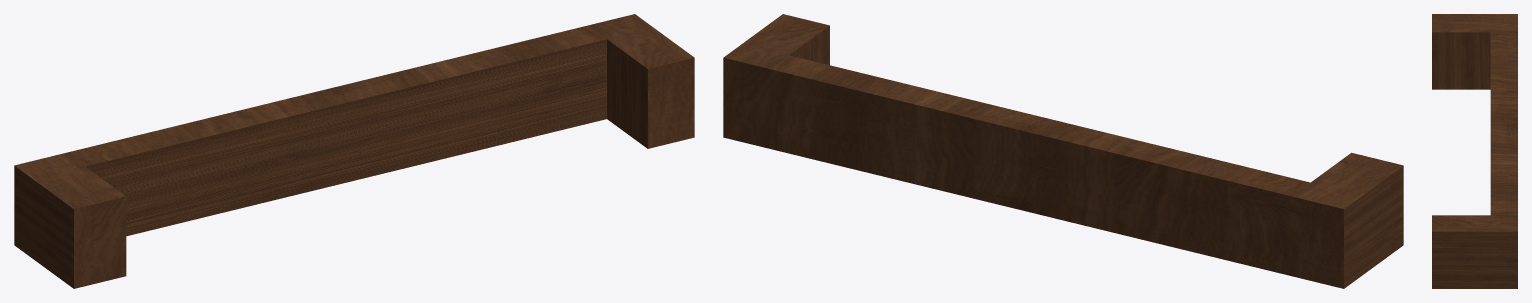
The model's file is modesty-b2d30522ae3c.glb.
3 renders of one model, left to right at view 1: azimuth 30°, elevation 25°; view 2: azimuth 150°, elevation 25°; view 3: azimuth 270°, elevation 25°, orthographic. The views are drawn at different scales.
Parts seen in each view (by area): view 1: Box1766; view 2: Box1766; view 3: Box1766.
Boxes of the visible parts, box(x1,y1,x2,y2) form: Box1766: box(14, 14, 694, 288); Box1766: box(723, 14, 1403, 288); Box1766: box(1432, 14, 1517, 288).
Bounding box in the file's own units: 0.18 × 0.0221 × 0.03.
1 material, 1 textured.
